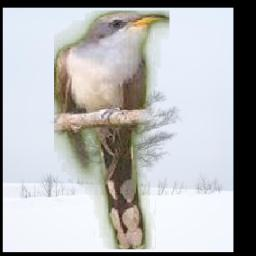Cuckoo: (54, 11, 169, 249)
